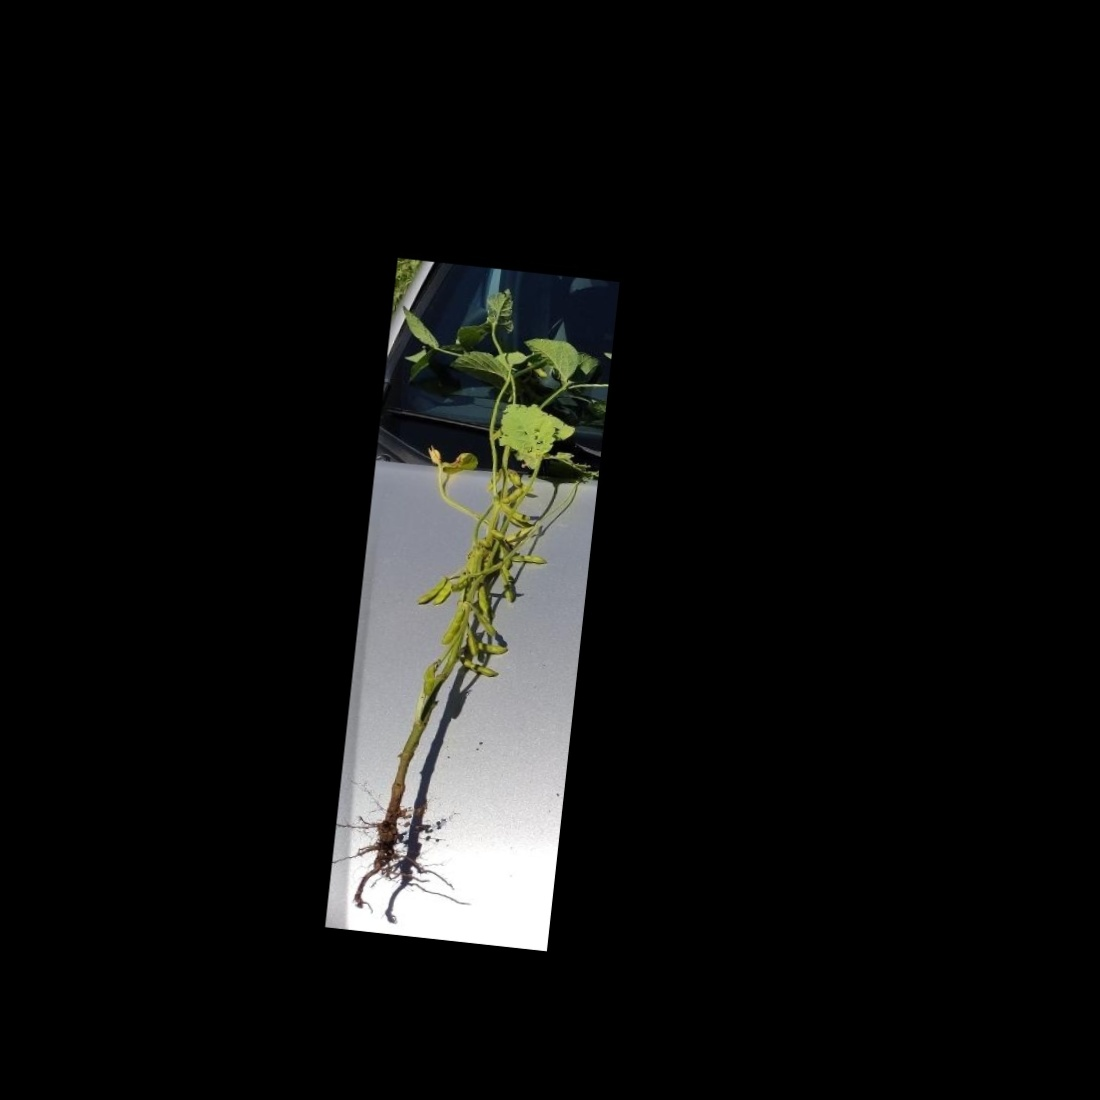pod: (441, 598, 470, 649), (415, 572, 448, 609), (456, 655, 505, 680), (504, 551, 551, 567), (498, 570, 518, 606)
soy: (343, 298, 583, 906)
